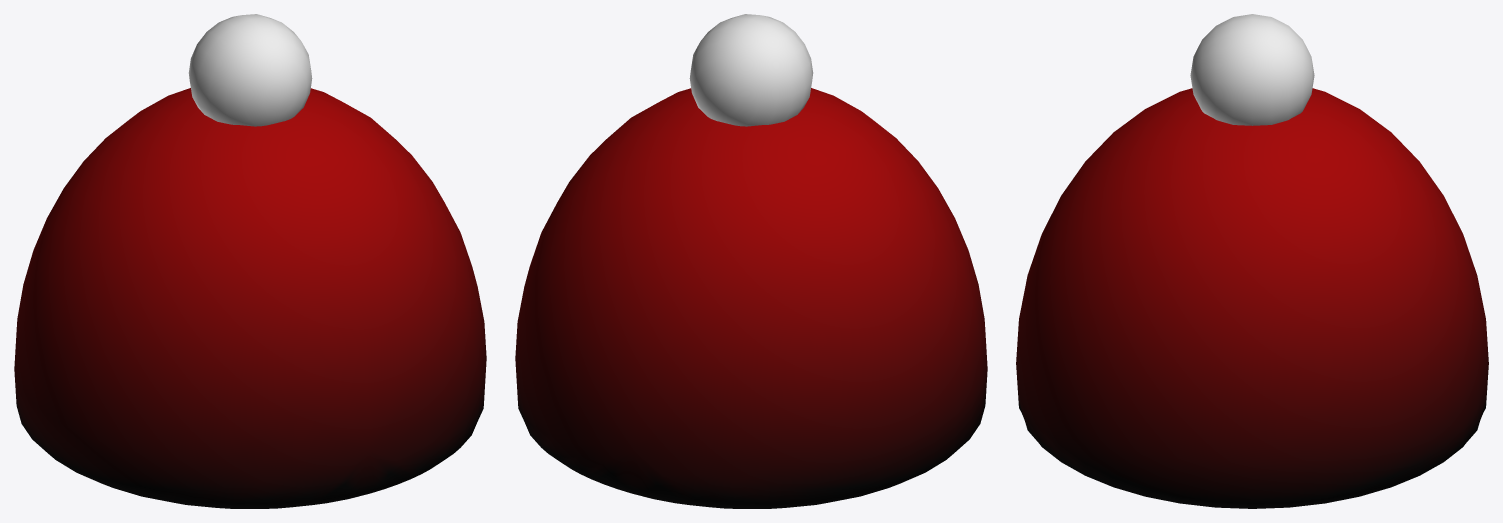
The model's file is bg-candy-b.glb.
The picture shows the model from 3 angles, left to right: view 1: azimuth 30°, elevation 25°; view 2: azimuth 150°, elevation 25°; view 3: azimuth 270°, elevation 25°; orthographic projection.
Parts seen in each view (by area): view 1: gum, cherry; view 2: gum, cherry; view 3: gum, cherry.
Boxes of the visible parts, x1=… form: gum: x1=14, y1=88, x2=486, y2=508; cherry: x1=188, y1=14, x2=312, y2=126; gum: x1=515, y1=88, x2=987, y2=508; cherry: x1=689, y1=14, x2=813, y2=126; gum: x1=1016, y1=88, x2=1488, y2=508; cherry: x1=1190, y1=14, x2=1314, y2=125.
Bounding box in the file's own units: 3.2 × 3.21 × 3.2.
